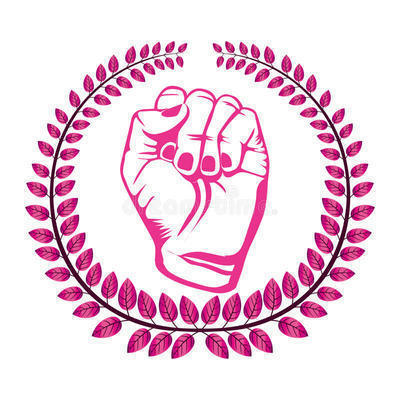closedhandfront: (125, 83, 272, 291)
